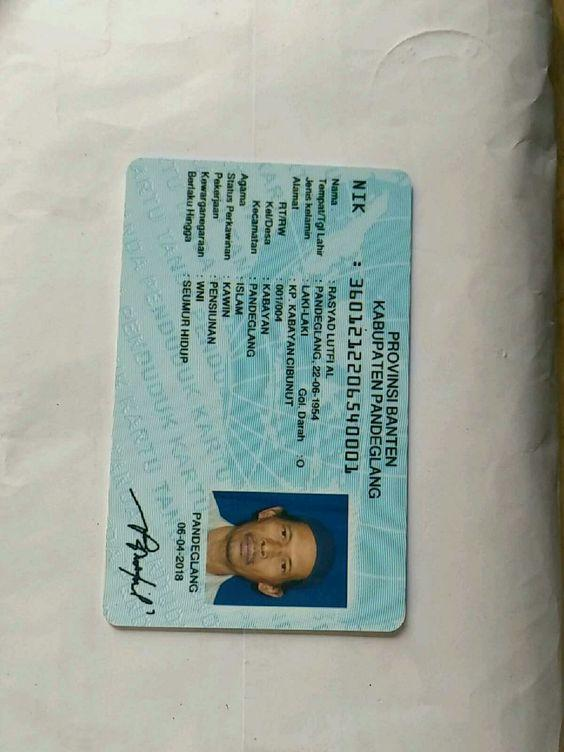ID-card: (103, 160, 407, 623)
